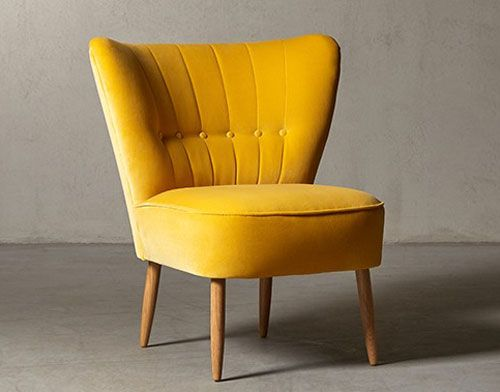chairs: (88, 37, 389, 382)
